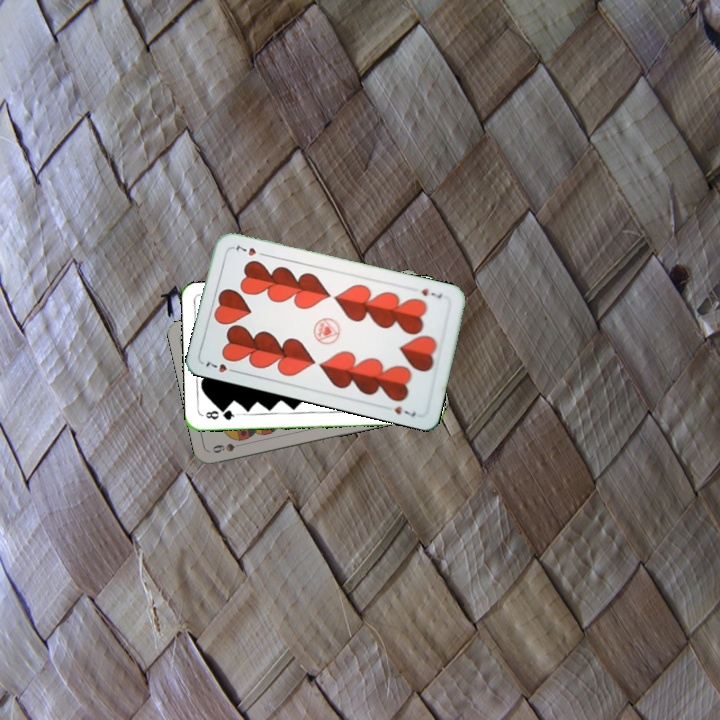G8: (202, 406, 240, 422)
H7: (201, 357, 240, 375), (417, 284, 445, 301)
S9: (208, 439, 248, 456)
